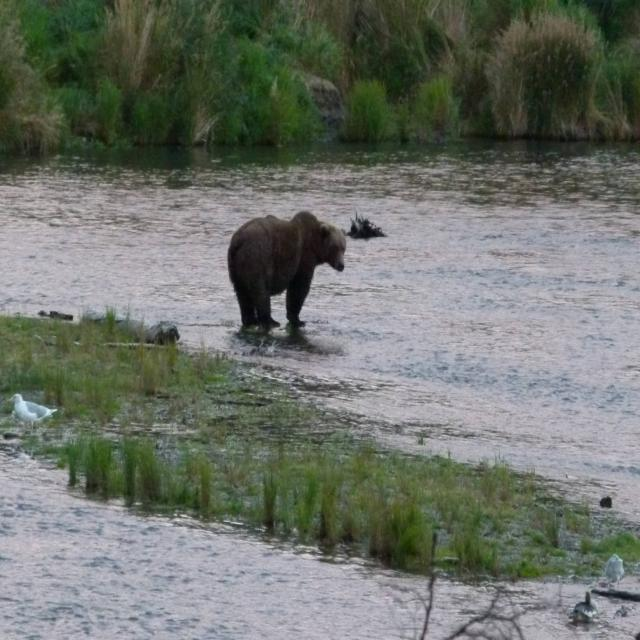bear face: (231, 212, 350, 323)
